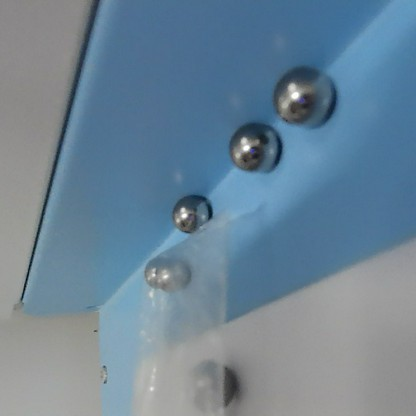ironball: (270, 63, 342, 128), (218, 118, 285, 177), (183, 356, 248, 413), (167, 193, 213, 233), (154, 257, 191, 294), (139, 253, 164, 287)
